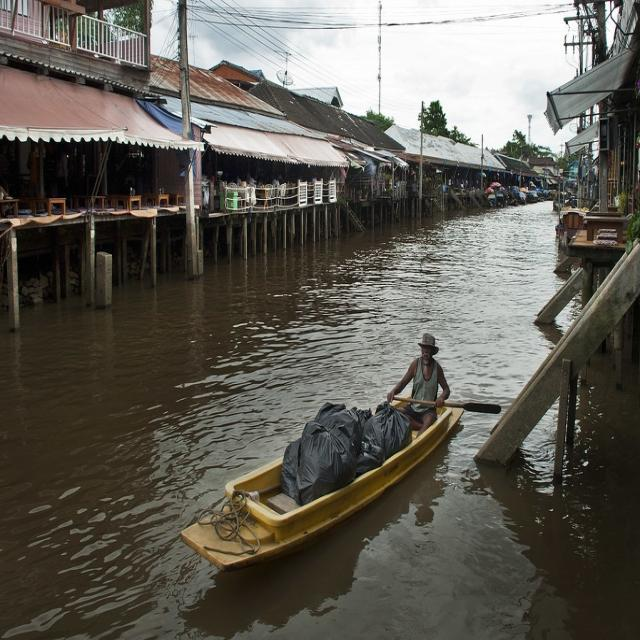boat: (175, 400, 489, 566)
